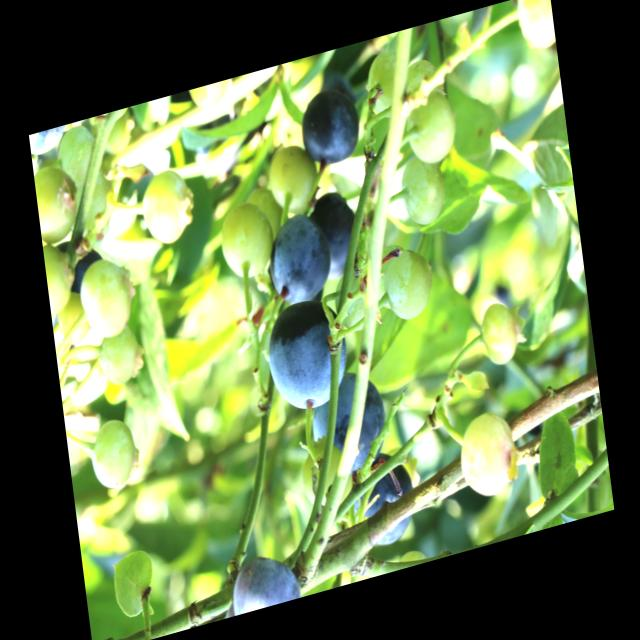blueberry: (263, 292, 356, 416), (306, 365, 392, 486), (345, 447, 424, 553), (262, 209, 336, 312), (224, 540, 305, 617), (308, 183, 361, 283), (298, 86, 361, 168)
blueberry-unripe: (75, 245, 148, 342), (454, 406, 523, 507), (216, 196, 276, 286), (263, 138, 323, 224), (378, 241, 438, 327), (33, 155, 85, 253), (401, 88, 460, 174), (300, 438, 360, 521), (140, 166, 198, 250), (106, 541, 164, 625), (396, 147, 450, 233), (86, 412, 142, 494), (476, 294, 523, 376), (95, 316, 146, 390), (361, 46, 408, 126), (58, 121, 103, 189), (43, 238, 82, 316), (513, 0, 554, 56), (57, 290, 92, 348), (96, 107, 133, 160), (187, 79, 232, 116)
